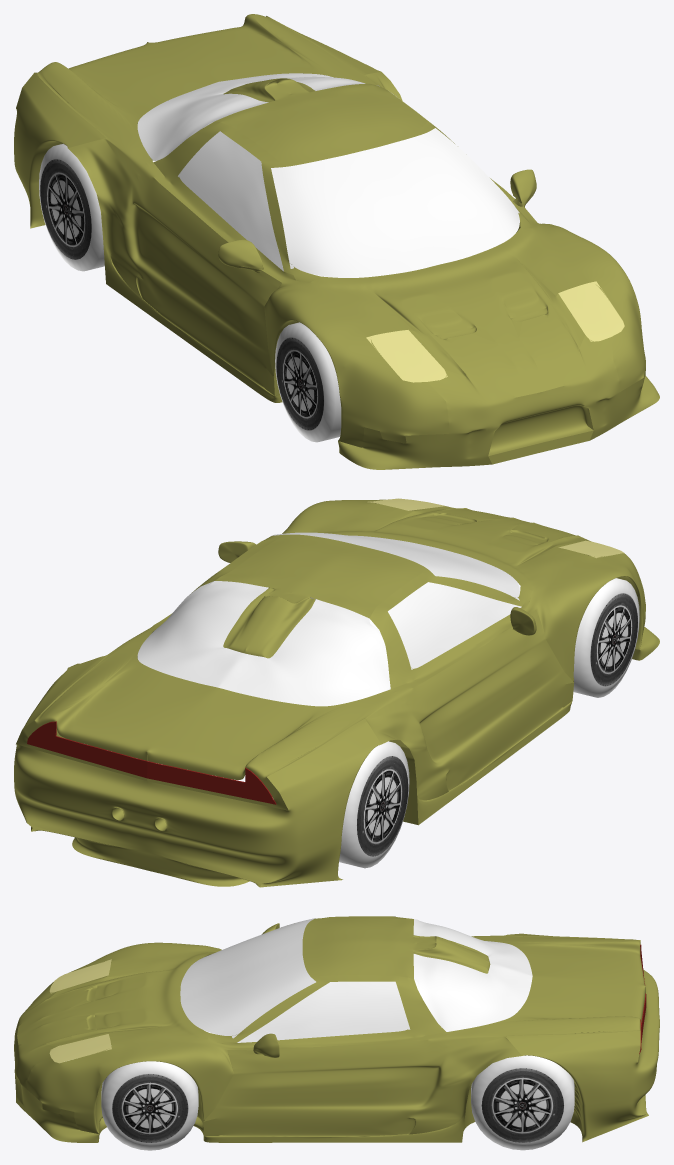
Rendered from car1.glb.
The picture shows the model from 3 angles, top to bottom: view 1: azimuth 30°, elevation 25°; view 2: azimuth 150°, elevation 25°; view 3: azimuth 270°, elevation 25°; orthographic projection. The views are drawn at different scales.
Visible parts, largest first — view 1: Cube, mirrors, BW, FW, Farol_F; view 2: Cube, mirrors, BW, FW, Farol_B, Farol_F; view 3: Cube, mirrors, BW, FW, Farol_F.
Part boxes in pixels (box(x1,y1,x2,y2)): Cube: box(14, 14, 659, 469); mirrors: box(137, 73, 519, 277); BW: box(39, 90, 315, 271); FW: box(275, 255, 617, 442); Farol_F: box(366, 281, 624, 382); Cube: box(14, 499, 659, 887); mirrors: box(137, 532, 521, 706); BW: box(339, 741, 409, 868); FW: box(310, 578, 639, 697); Farol_B: box(27, 721, 276, 804); Farol_F: box(367, 498, 624, 558); Cube: box(14, 916, 659, 1142); mirrors: box(180, 916, 532, 1042); BW: box(471, 1055, 574, 1150); FW: box(101, 1022, 198, 1150); Farol_F: box(49, 959, 111, 1063).
Size of the model in its own units: 1.53 by 0.8841 by 3.39.
6 materials, 2 textured.
